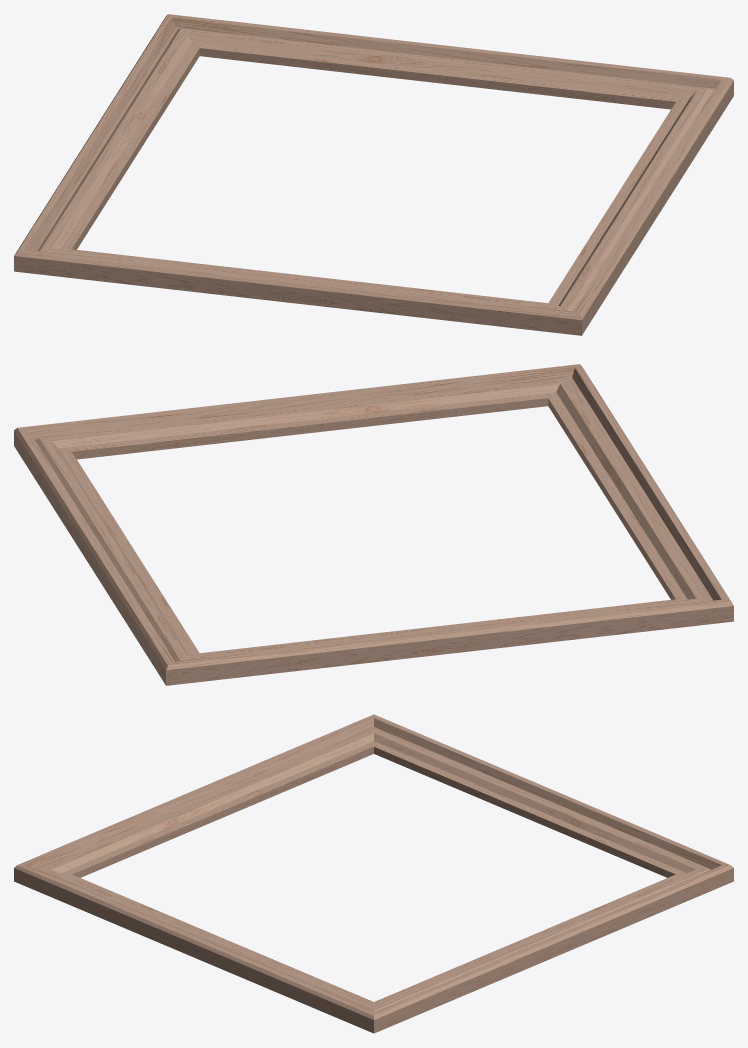
File: frame_1.glb
3 views of the same model, one above another, from view 1: azimuth 30°, elevation 25°; view 2: azimuth 150°, elevation 25°; view 3: azimuth 270°, elevation 25° (orthographic). The views are drawn at different scales.
Parts seen in each view (by area): view 1: 立方体_立方体.001; view 2: 立方体_立方体.001; view 3: 立方体_立方体.001.
Part boxes in pixels (x1,y1,x2,y2): 立方体_立方体.001: (14,14,733,335); 立方体_立方体.001: (14,364,733,685); 立方体_立方体.001: (14,714,733,1033).
Bounding box in the file's own units: 2.24 × 0.0563 × 2.24.
Materials: 1 (1 with a texture image).
